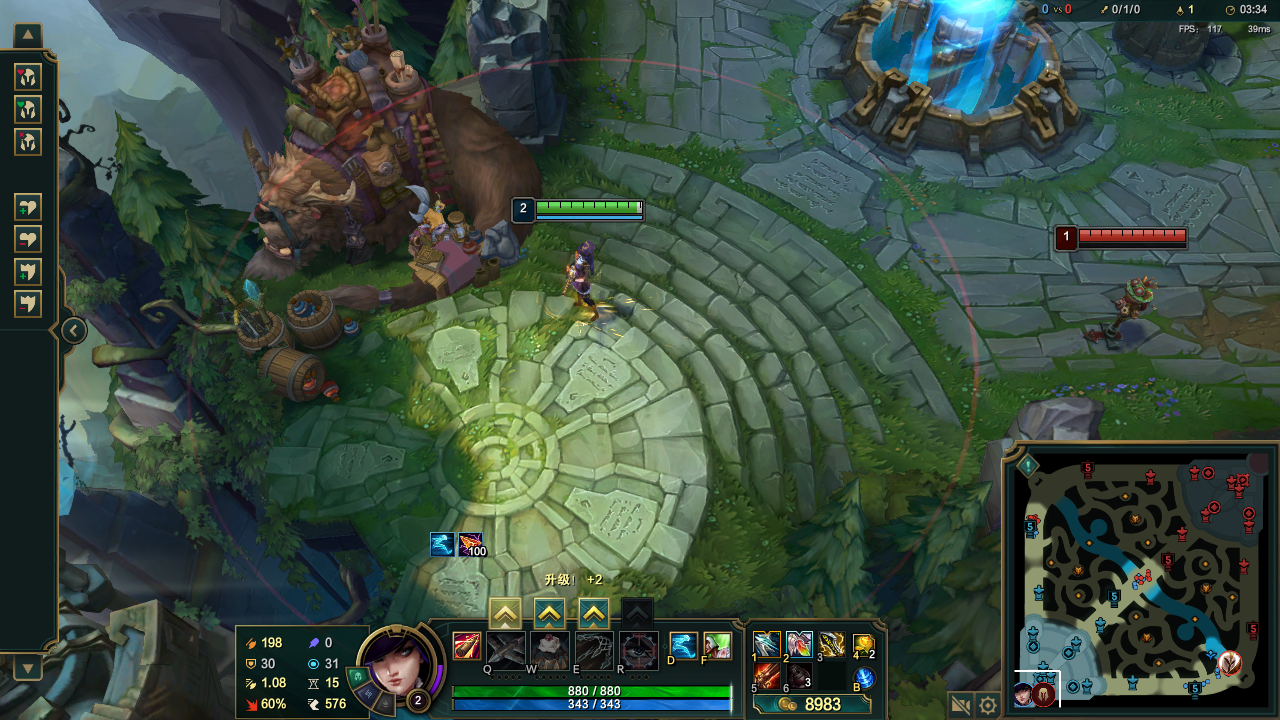DFYX: (1078, 230, 1185, 240)
